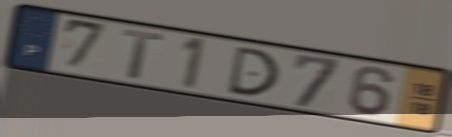1: (179, 37, 207, 93)
6: (344, 65, 397, 118)
7: (290, 50, 343, 110), (60, 16, 112, 75)
D: (224, 44, 282, 99)
T: (121, 28, 167, 82)
